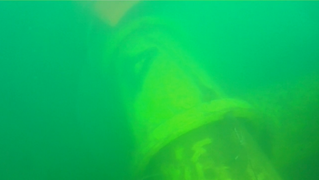4: (120, 45, 160, 102)
leak: (84, 1, 141, 27)
pipe: (87, 14, 282, 180), (242, 74, 319, 166)
